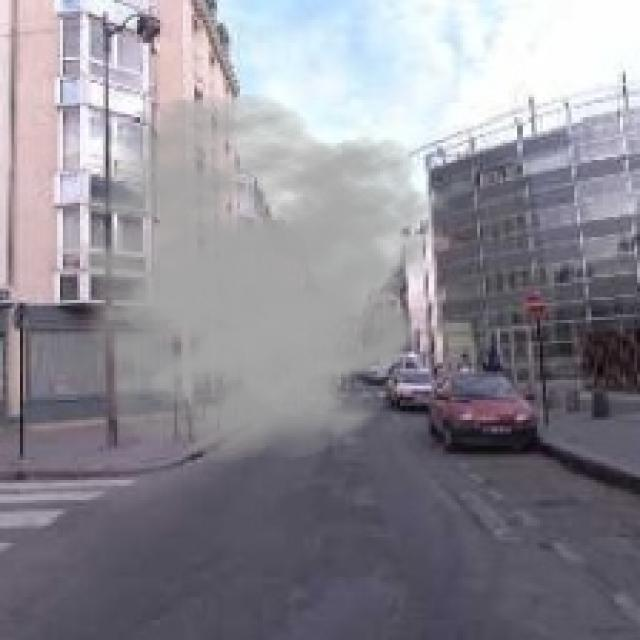smoke: (31, 91, 452, 463)
